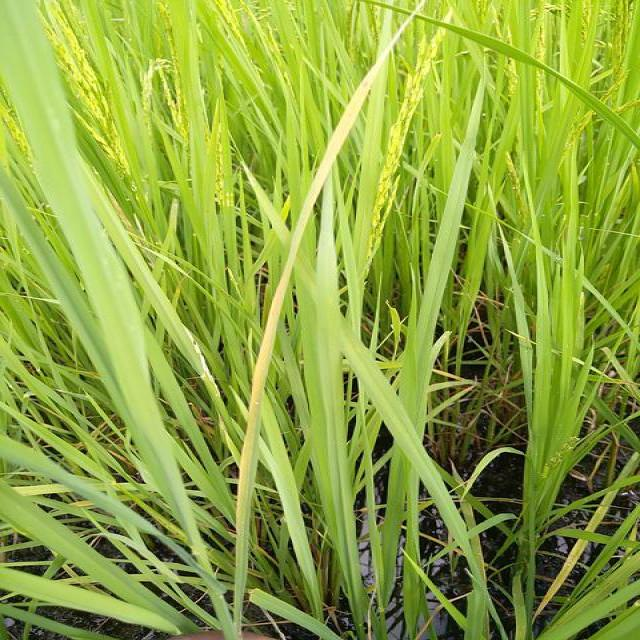Leaf Blight: (233, 24, 407, 639)
